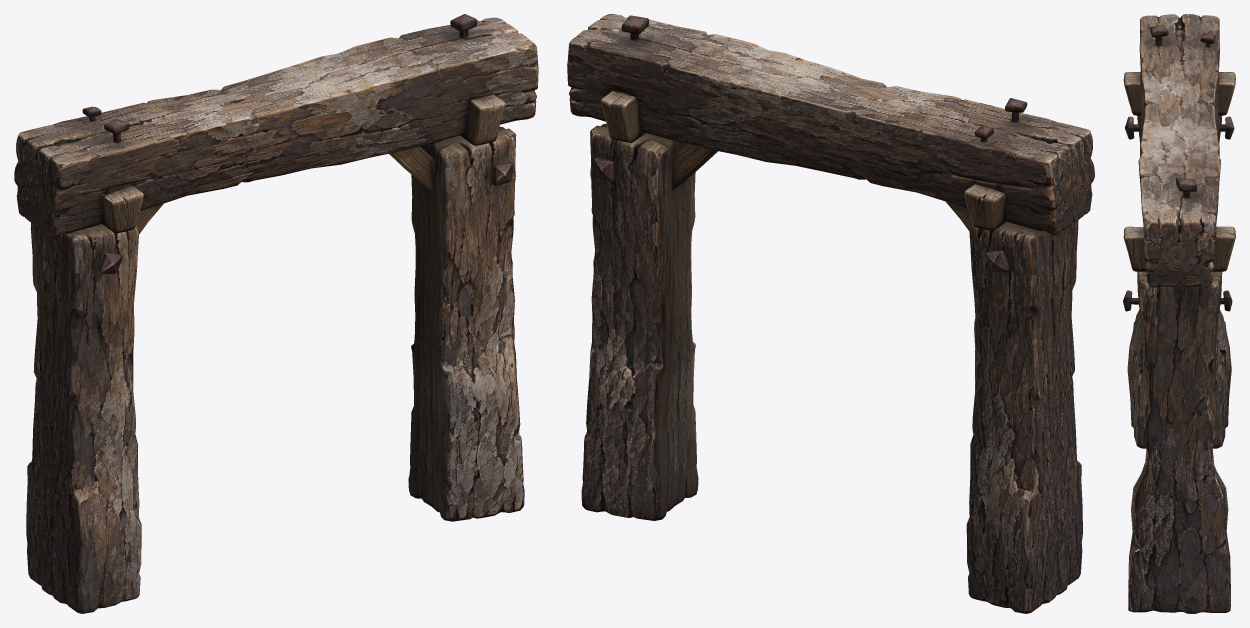
The model's file is dungeon-prop-mine-timber.glb.
3 views of the same model, side by side, from view 1: azimuth 30°, elevation 25°; view 2: azimuth 150°, elevation 25°; view 3: azimuth 270°, elevation 25° (orthographic). The views are drawn at different scales.
Parts seen in each view (by area): view 1: mine-timber; view 2: mine-timber; view 3: mine-timber.
Boxes of the visible parts, x1,y1,x2,y2 form: mine-timber: (14, 14, 538, 613); mine-timber: (567, 14, 1094, 613); mine-timber: (1123, 14, 1235, 613).
Bounding box in the file's own units: 2.77 × 2.6 × 0.6262.
1 material, 1 textured.
